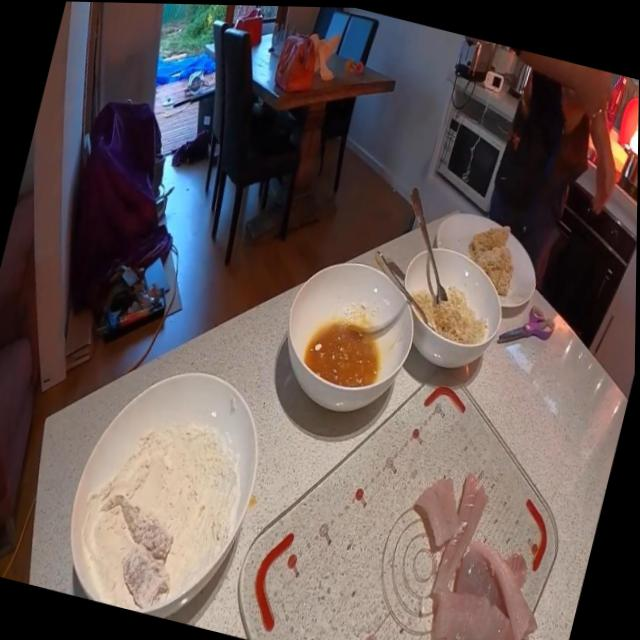fire: (619, 77, 639, 174)
